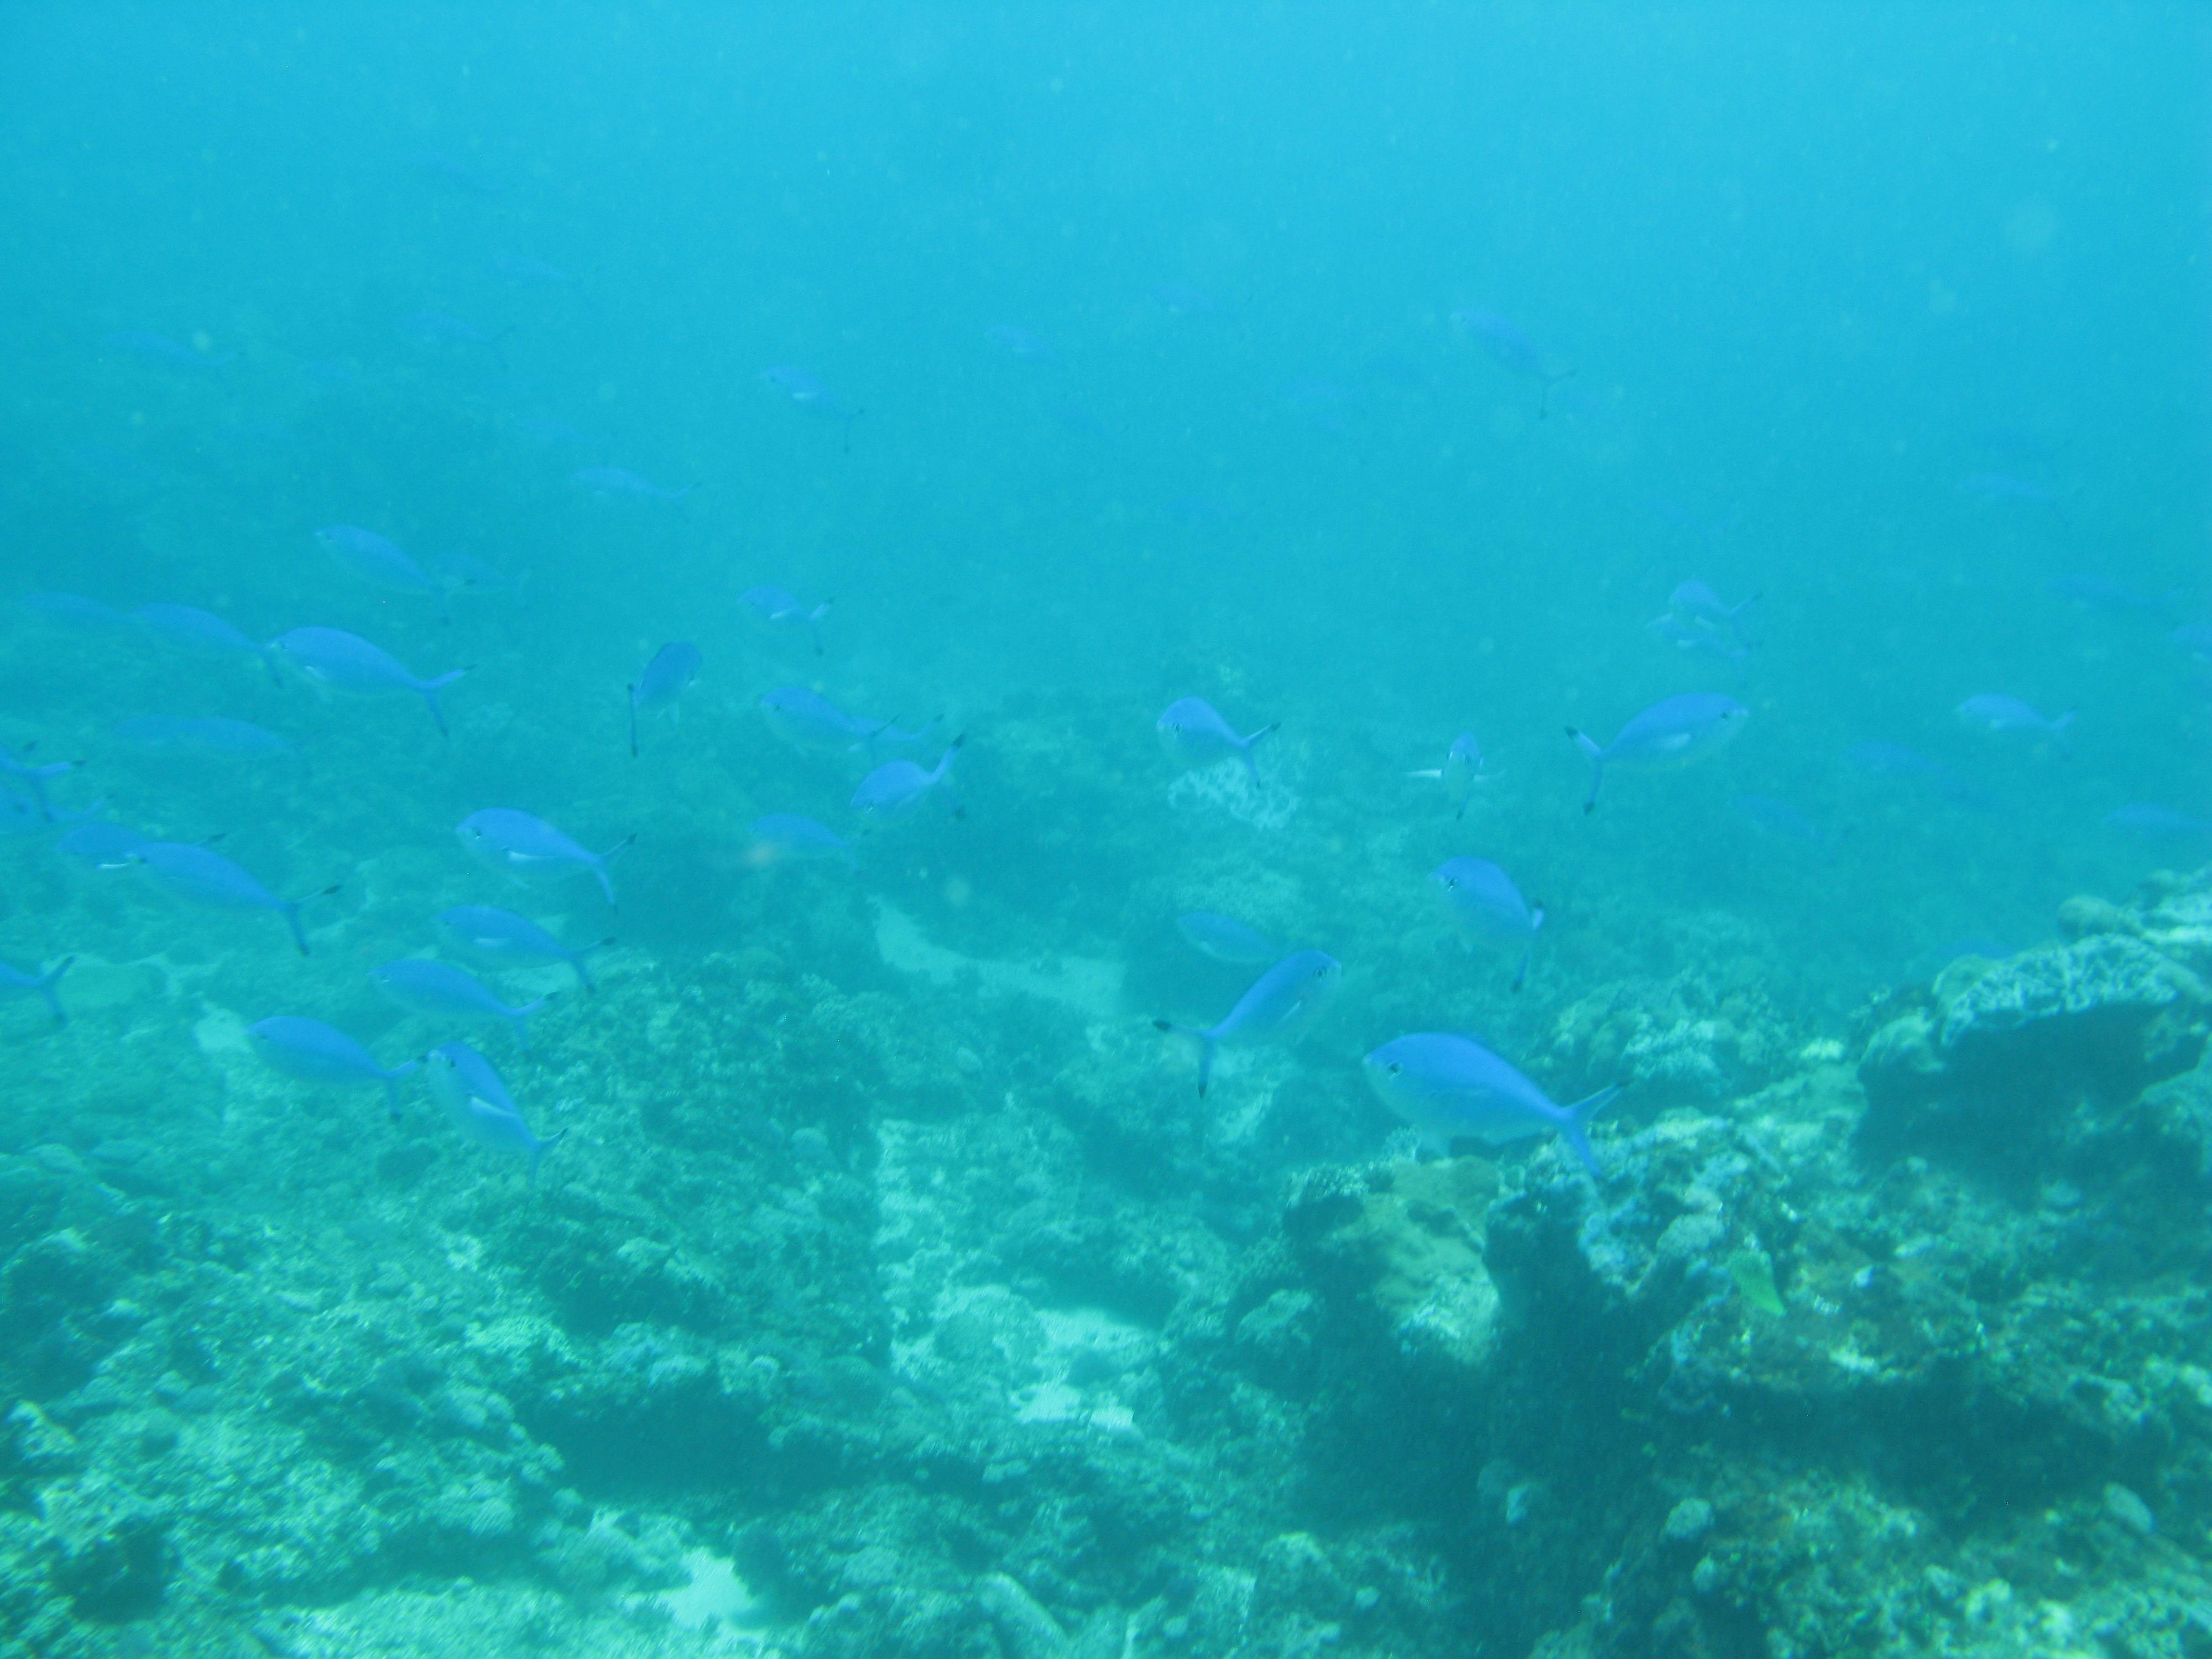Caesio lunaris: (1345, 1021, 1642, 1202), (1150, 918, 1367, 1101), (263, 592, 488, 753), (230, 990, 442, 1145), (421, 1035, 603, 1208), (122, 830, 355, 953), (448, 772, 646, 915), (1411, 842, 1594, 978), (603, 622, 728, 772), (1146, 695, 1289, 788)
